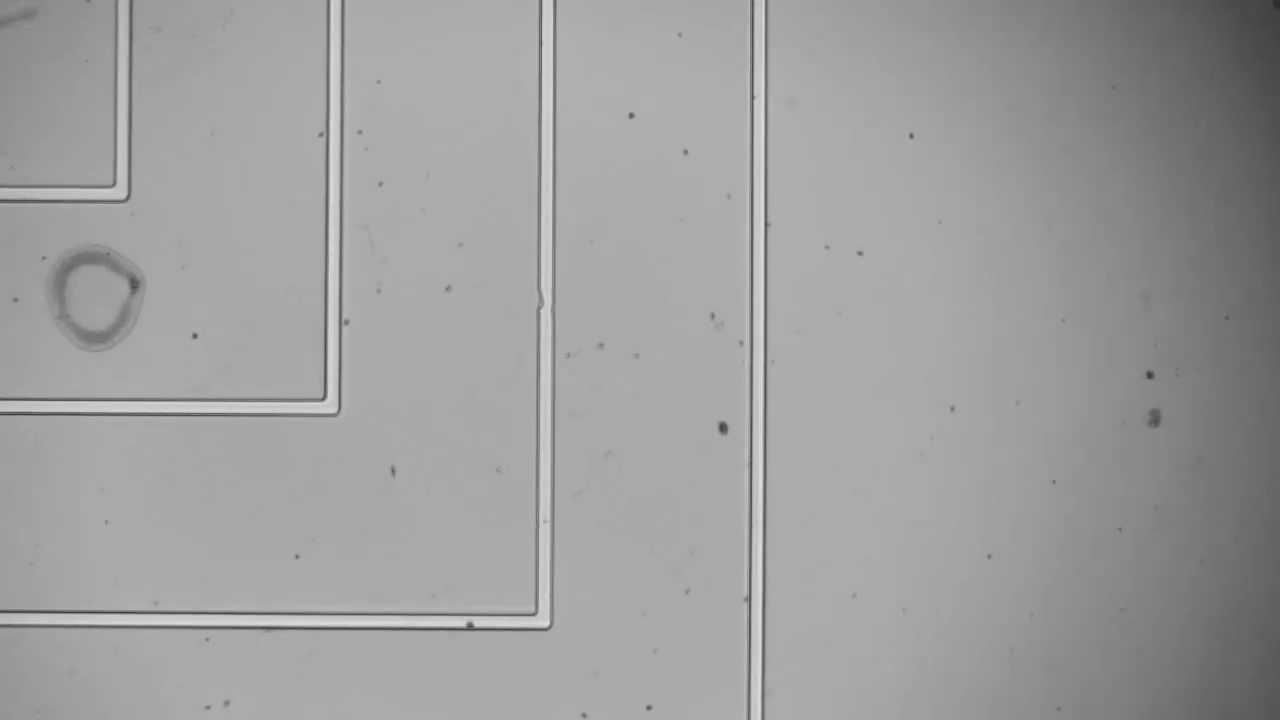edge_bite: (528, 284, 567, 318)
stains_enbedded: (457, 607, 486, 636)
